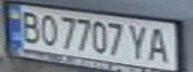0: (90, 18, 109, 54)
7: (106, 19, 127, 56), (57, 14, 78, 50), (72, 16, 93, 52)
A: (145, 24, 172, 64)
B: (15, 8, 42, 44)
O: (36, 11, 60, 46)
Y: (124, 21, 151, 61)
